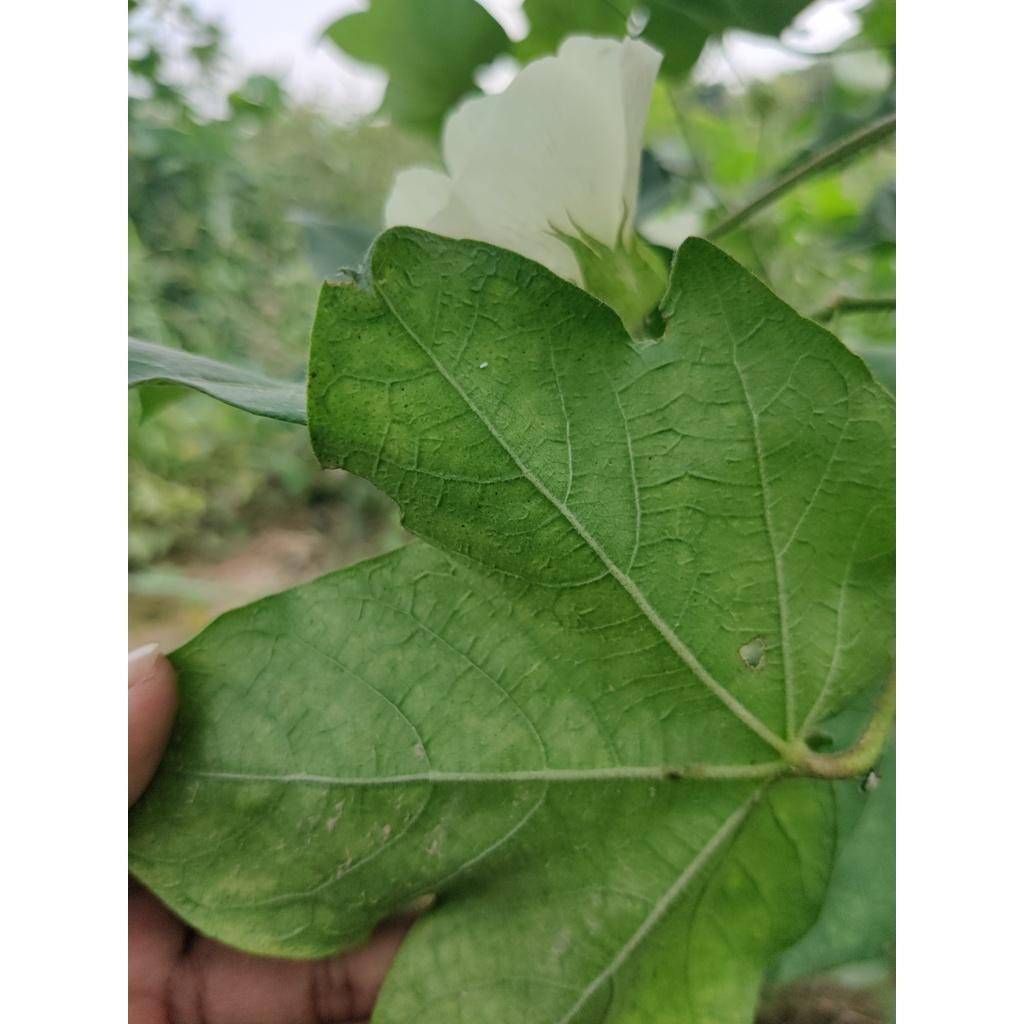adult: (479, 361, 488, 369)
